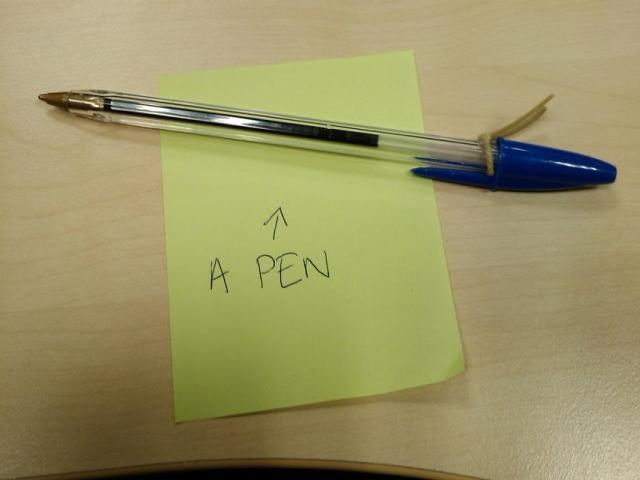PEN: (14, 59, 639, 211)
